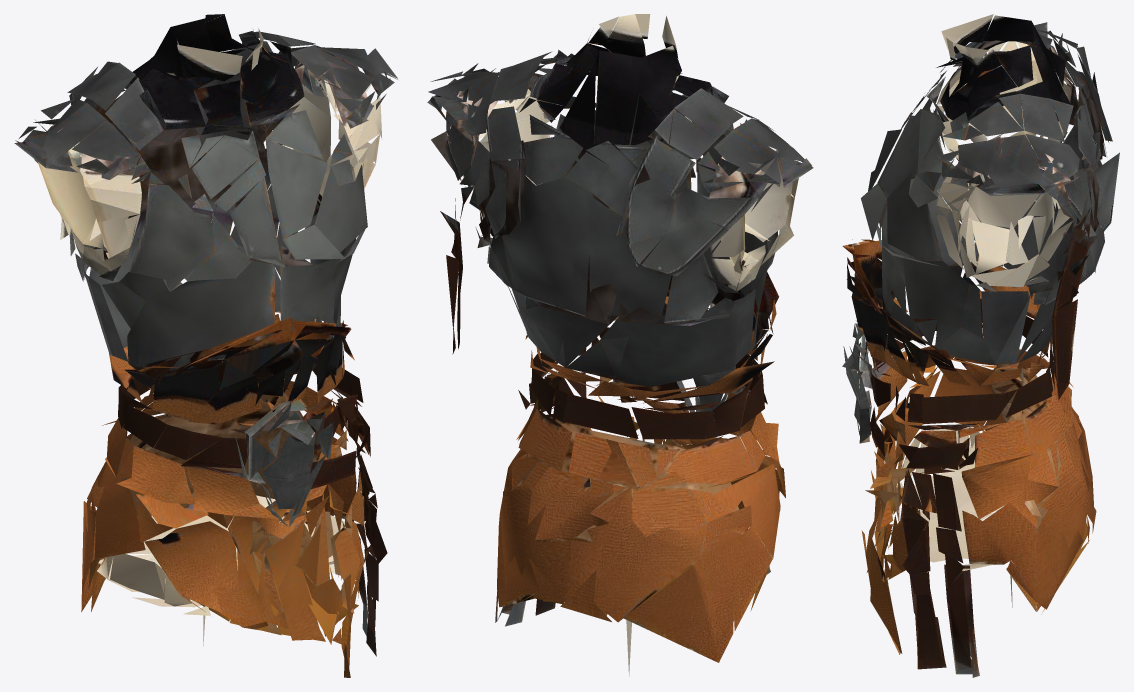
Rendered from armor_mk2_meshy_low.glb.
The picture shows the model from 3 angles, left to right: view 1: azimuth 30°, elevation 25°; view 2: azimuth 150°, elevation 25°; view 3: azimuth 270°, elevation 25°; orthographic projection. The views are drawn at different scales.
Parts seen in each view (by area): view 1: Mesh_0; view 2: Mesh_0; view 3: Mesh_0.
Part boxes in pixels (x1=…): Mesh_0: x1=14, y1=14, x2=397, y2=677; Mesh_0: x1=427, y1=14, x2=813, y2=676; Mesh_0: x1=842, y1=14, x2=1119, y2=677.
Bounding box in the file's own units: 1.03 × 1.73 × 0.7444.
Materials: 1 (1 with a texture image).
